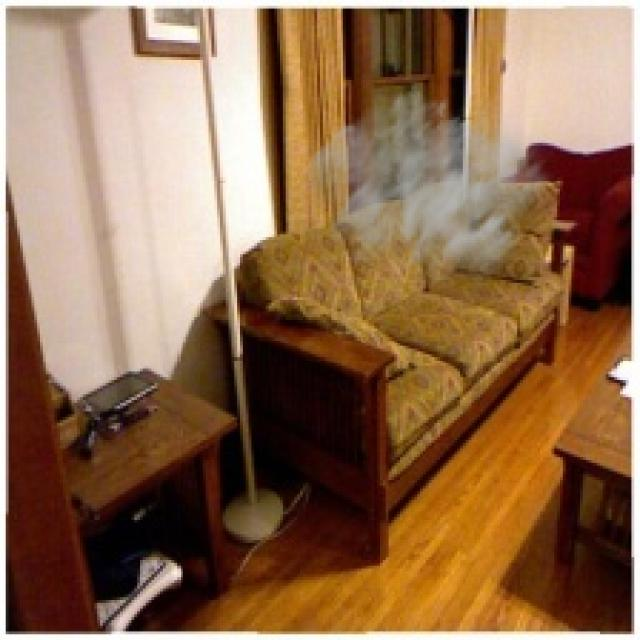smoke: (291, 83, 563, 311)
